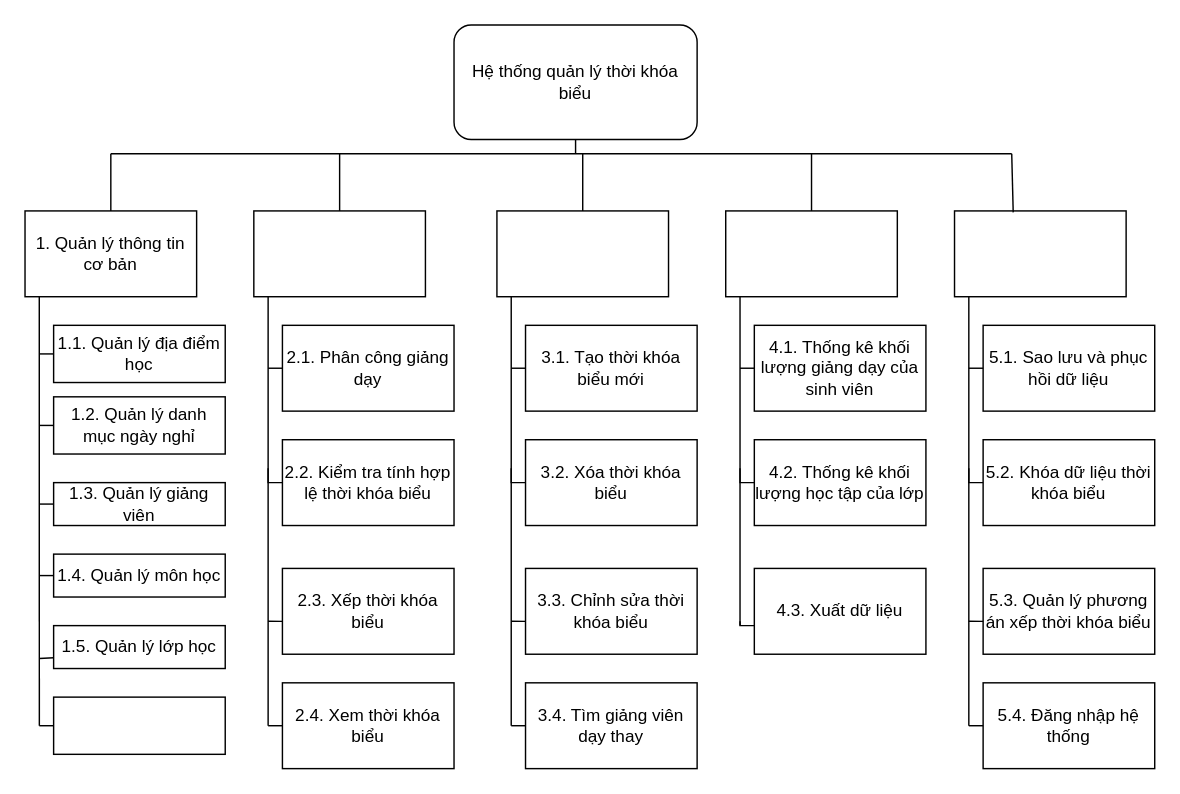
The diagram is 1180 pixels wide and 794 high, and some of its shapes have lost their labels. The shapes that lost their labels are listed below. From the top down, each one's centre as x and y in pixels, then its label:
At point (338, 253): "2. Lập kế hoạch giảng dạy".
At point (582, 253): "3. Quản lý thời khóa biểu".
At point (810, 253): "4. Xuất báo cáo và in ấn".
At point (1039, 253): "5. Quản lý hệ thống".
At point (138, 725): "1.6. Quản lý phòng học".
